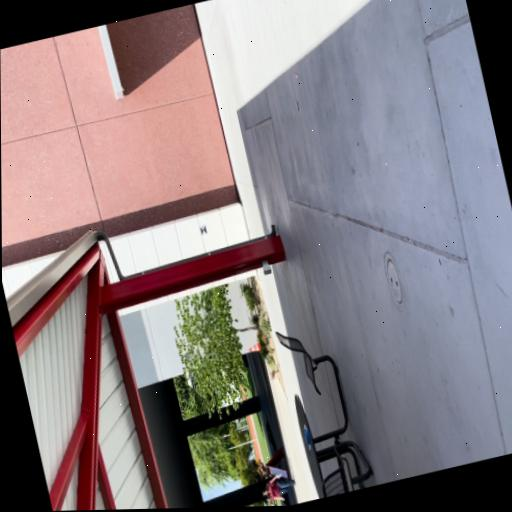target9: (199, 224, 207, 236)
